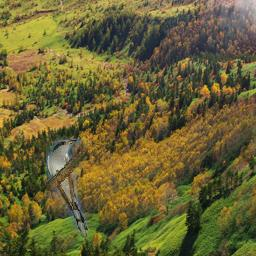Cuckoo: (46, 139, 88, 240)
